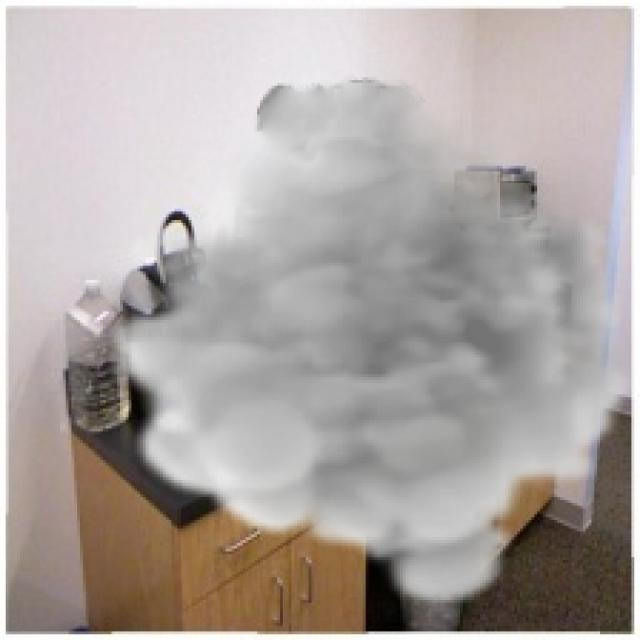smoke: (106, 75, 634, 614)
